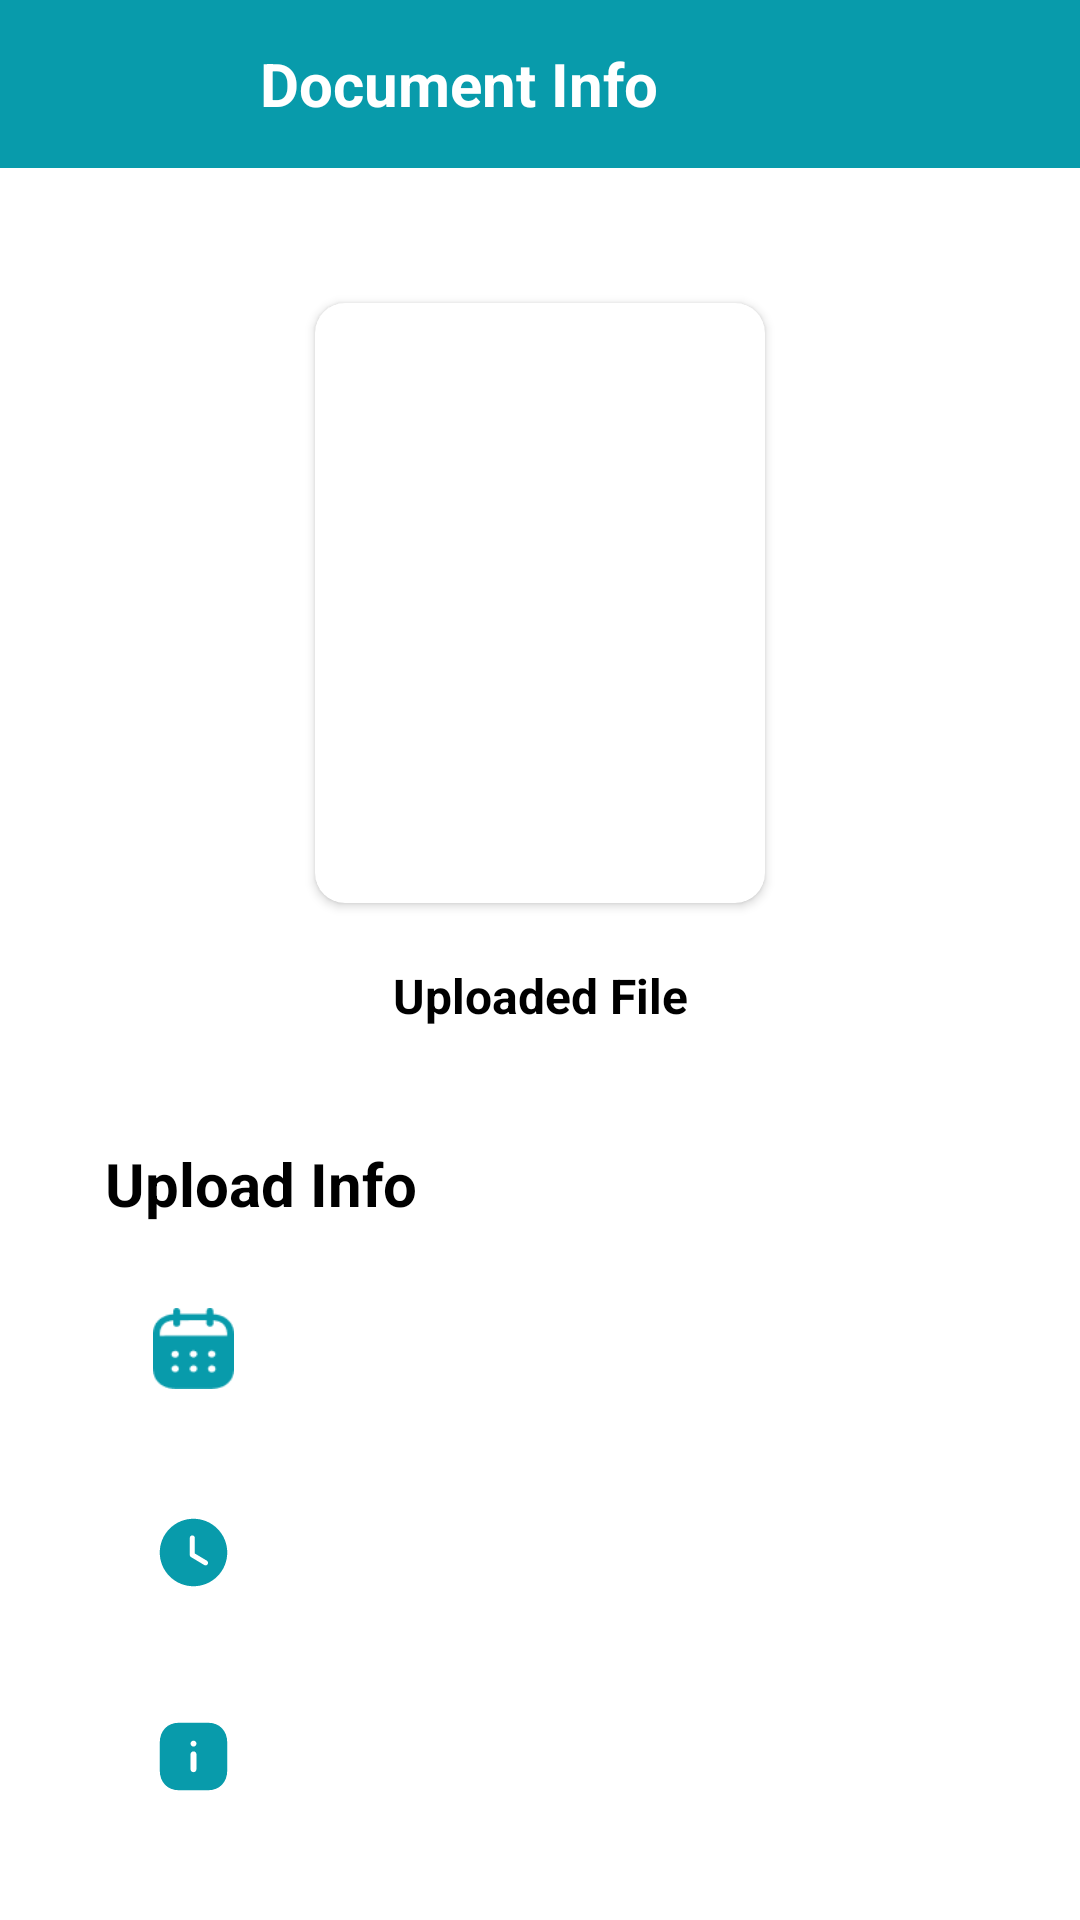

Named icons in this screenshot (1080w x 1920h) and their centers, point (x, y):
calendar: point (193, 1348)
clock: point (193, 1552)
info: point (193, 1756)
